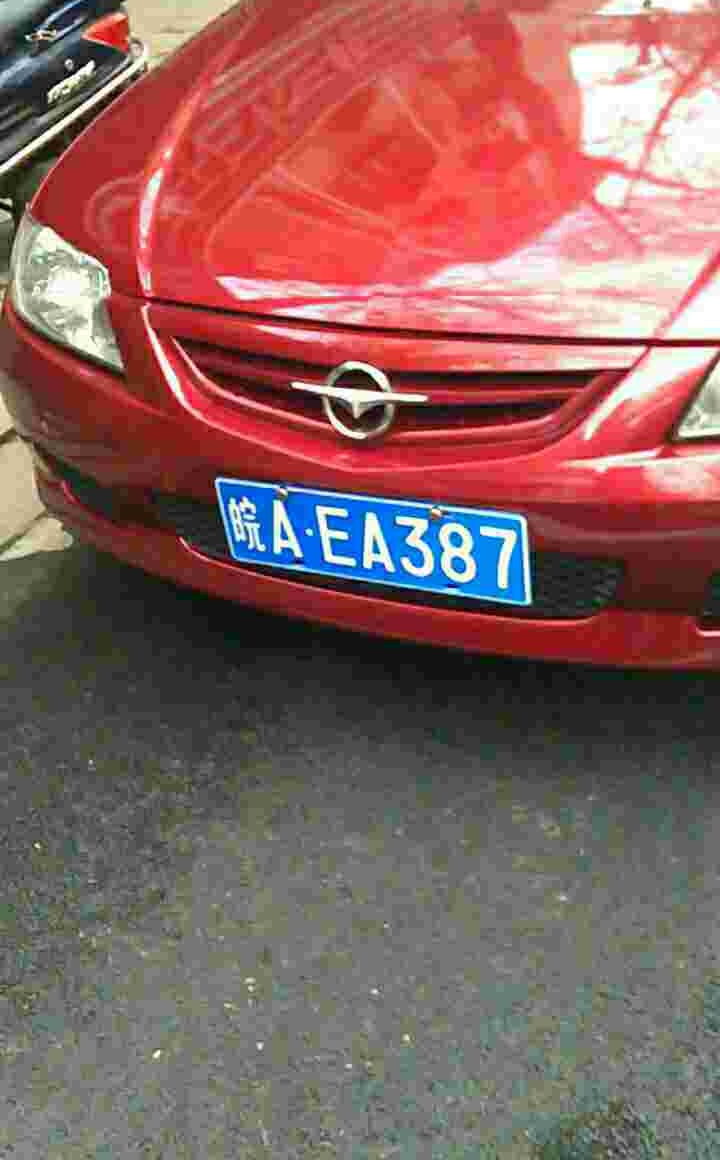license_plate: (214, 472, 543, 607)
